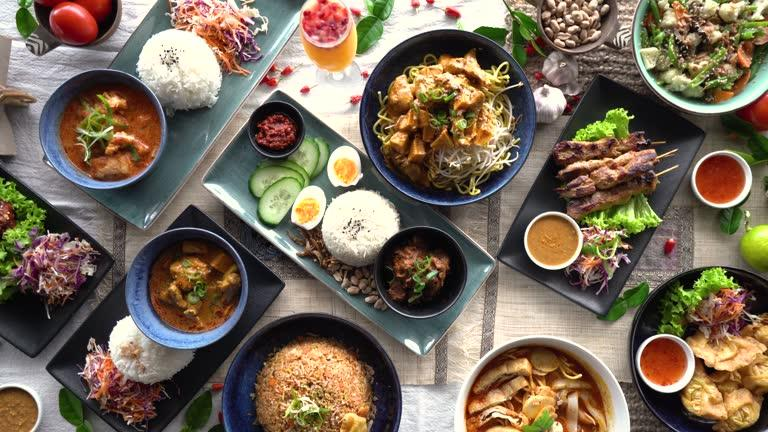Braised Crucian Carp: (225, 92, 479, 337), (50, 0, 291, 226), (494, 75, 707, 316), (59, 209, 282, 418), (360, 28, 528, 206), (628, 265, 768, 429), (221, 312, 399, 431), (453, 335, 628, 431), (632, 2, 766, 118)
